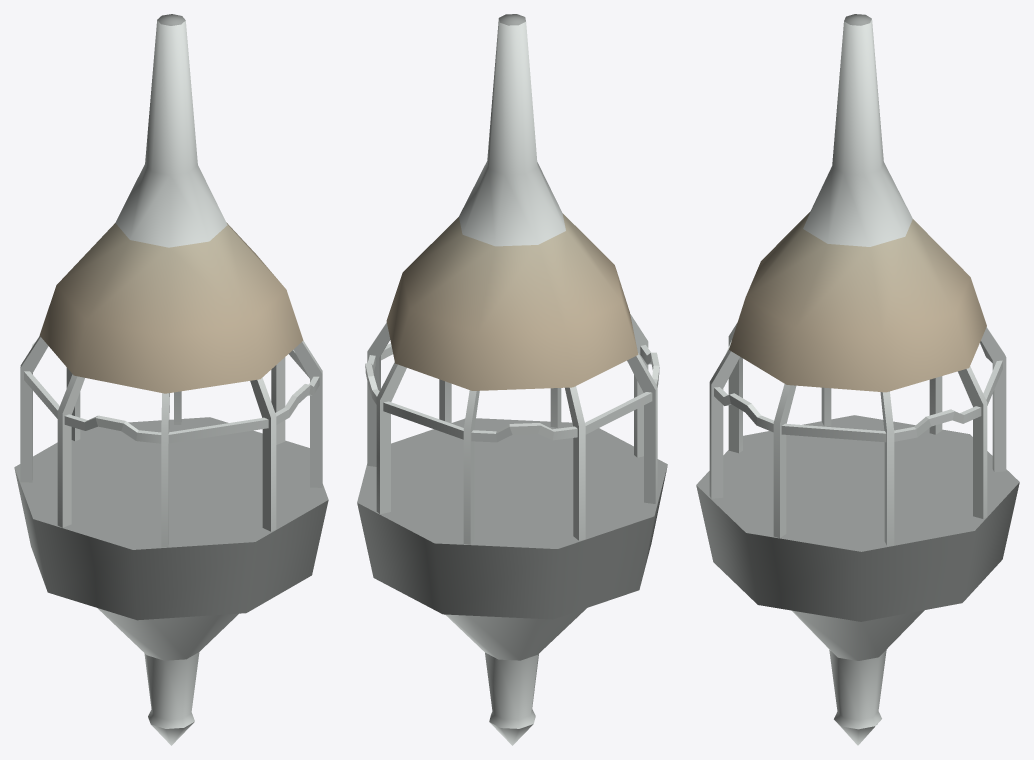
3 views of the same model, side by side, from view 1: azimuth 30°, elevation 25°; view 2: azimuth 150°, elevation 25°; view 3: azimuth 270°, elevation 25° (orthographic).
Visible parts, largest first — view 1: G:\FFXIV-MapTools\exports\f1f1\bg\ffxiv\fst_f1\fld\f1f1\bgpa (×4); view 2: G:\FFXIV-MapTools\exports\f1f1\bg\ffxiv\fst_f1\fld\f1f1\bgpa (×4); view 3: G:\FFXIV-MapTools\exports\f1f1\bg\ffxiv\fst_f1\fld\f1f1\bgpa (×4).
Part boxes in pixels (x1,y1,x2,y2): G:\FFXIV-MapTools\exports\f1f1\bg\ffxiv\fst_f1\fld\f1f1\bgpa (×4): (14,14,328,745); G:\FFXIV-MapTools\exports\f1f1\bg\ffxiv\fst_f1\fld\f1f1\bgpa (×4): (357,14,667,745); G:\FFXIV-MapTools\exports\f1f1\bg\ffxiv\fst_f1\fld\f1f1\bgpa (×4): (696,14,1019,745).
Size of the model in its own units: 8.64 by 21.43 by 8.64.
